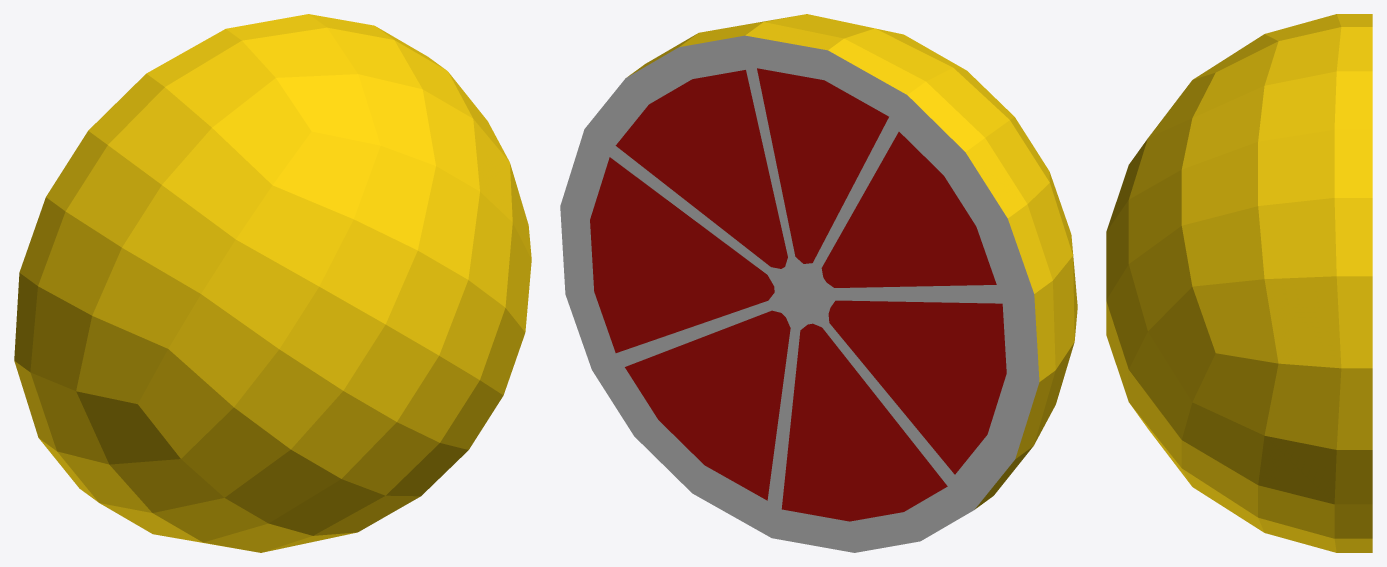
Rendered from grapefruitobj.obj.
The picture shows the model from 3 angles, left to right: view 1: azimuth 30°, elevation 25°; view 2: azimuth 150°, elevation 25°; view 3: azimuth 270°, elevation 25°; orthographic projection. The views are drawn at different scales.
Parts seen in each view (by area): view 1: Grapefruit_Roundcube.005; view 2: Grapefruit_Roundcube.005; view 3: Grapefruit_Roundcube.005.
Part boxes in pixels (x1,y1,x2,y2): Grapefruit_Roundcube.005: (14,14,531,552); Grapefruit_Roundcube.005: (560,14,1077,552); Grapefruit_Roundcube.005: (1106,14,1372,552).
Size of the model in its own units: 4.86 by 4.86 by 2.41.
